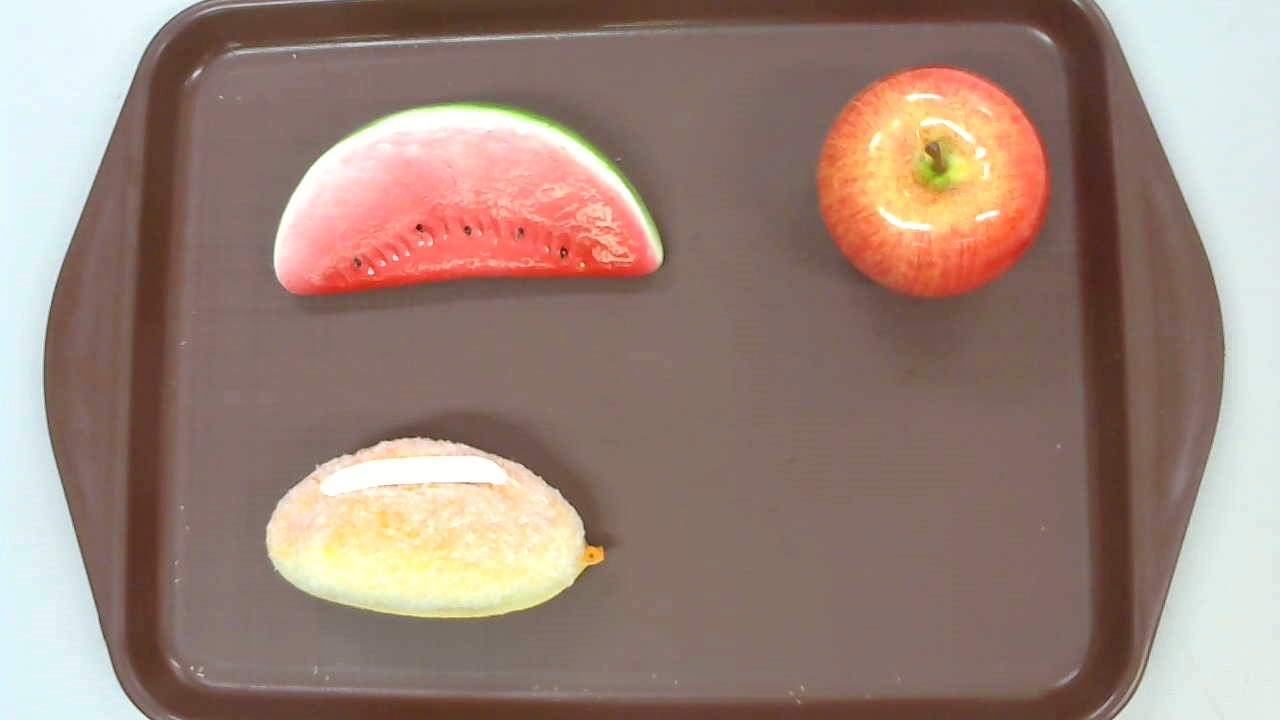coconut: (265, 435, 605, 619)
red apple: (815, 66, 1050, 300)
water melon: (273, 102, 664, 296)
